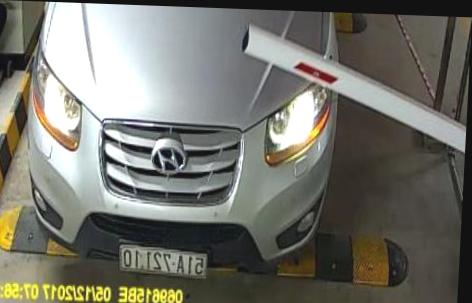License_Plate: (111, 238, 216, 282)
